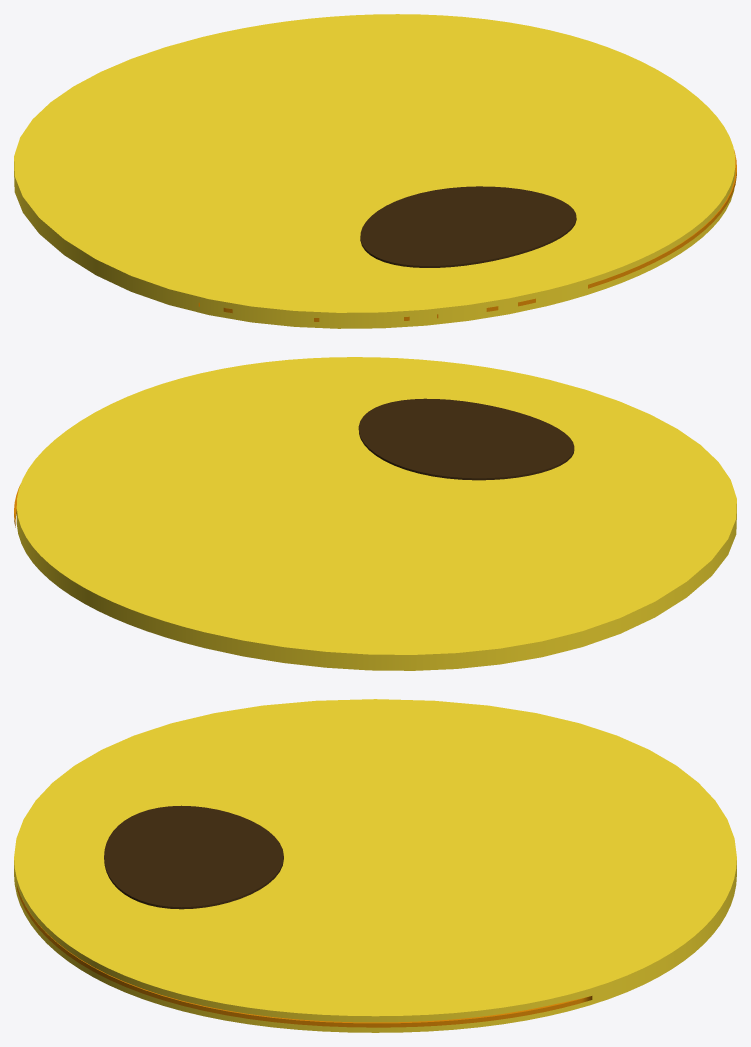
The model's file is emoji_u1f635.glb.
The picture shows the model from 3 angles, top to bottom: view 1: azimuth 30°, elevation 25°; view 2: azimuth 150°, elevation 25°; view 3: azimuth 270°, elevation 25°; orthographic projection. The views are drawn at different scales.
Visible parts, largest first — view 1: emoji_u1f635; view 2: emoji_u1f635; view 3: emoji_u1f635.
Part boxes in pixels (bbox=[...]): emoji_u1f635: bbox=[14, 14, 736, 328]; emoji_u1f635: bbox=[14, 357, 736, 670]; emoji_u1f635: bbox=[14, 699, 736, 1032].
Bounding box in the file's own units: 0.0327 × 0.001 × 0.0315.
